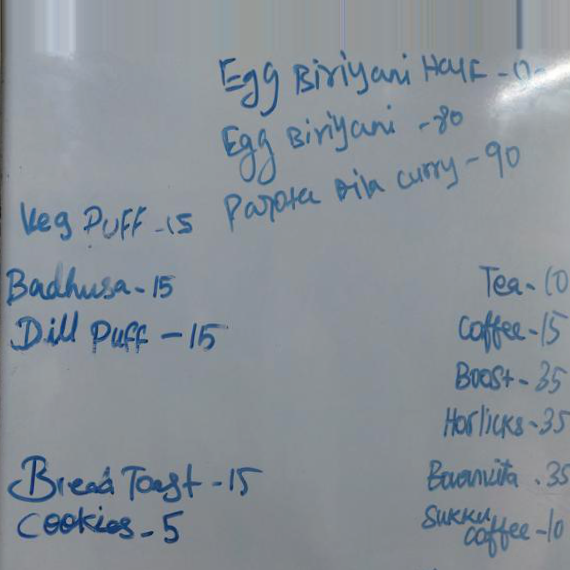Tea - 10: (471, 258, 570, 303)
badhusa -15: (5, 261, 181, 307)
boost - 35: (449, 354, 570, 398)
bournvita - 35: (419, 445, 570, 496)
bread toast - 15: (4, 447, 268, 504)
coffee - 15: (457, 303, 570, 353)
cookies - 5: (15, 506, 194, 551)
dill puff - 15: (11, 311, 233, 361)
egg briyani - 80: (216, 106, 405, 162)
egg briyani half -50: (212, 49, 557, 103)
horlicks - 35: (440, 398, 570, 444)
parotta - 90: (215, 165, 458, 225)
sukku coffee - 10: (418, 496, 570, 555)
veg puff - 15: (16, 194, 200, 252)
